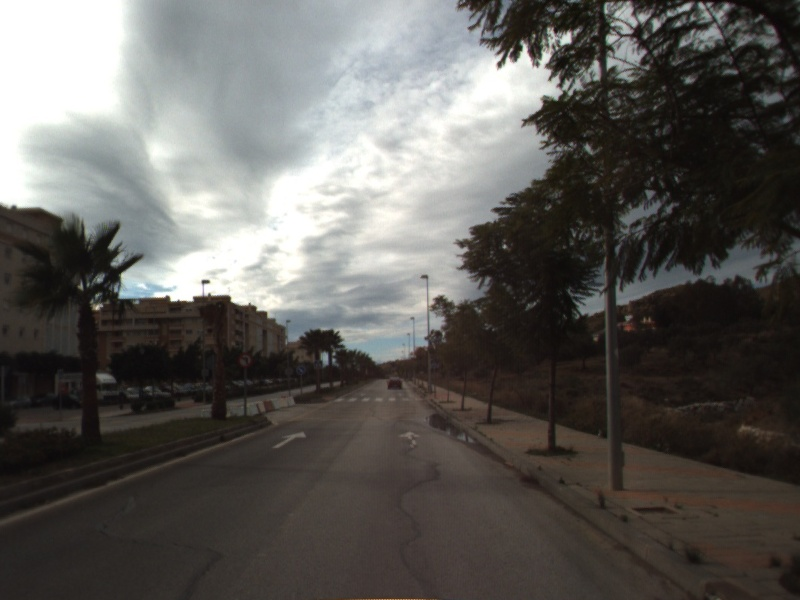STRAIGHT: (270, 429, 308, 450), (396, 429, 423, 450)
